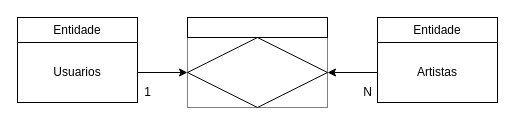
The diagram is 515 pixels wide and 125 high, and some of its shapes have lost their labels. The shapes that lost their labels are listed below. From the top down, each one's centre as x and y in pixels, then its label:
(x=257, y=27): Relacionamento
(x=257, y=72): Ouvir
